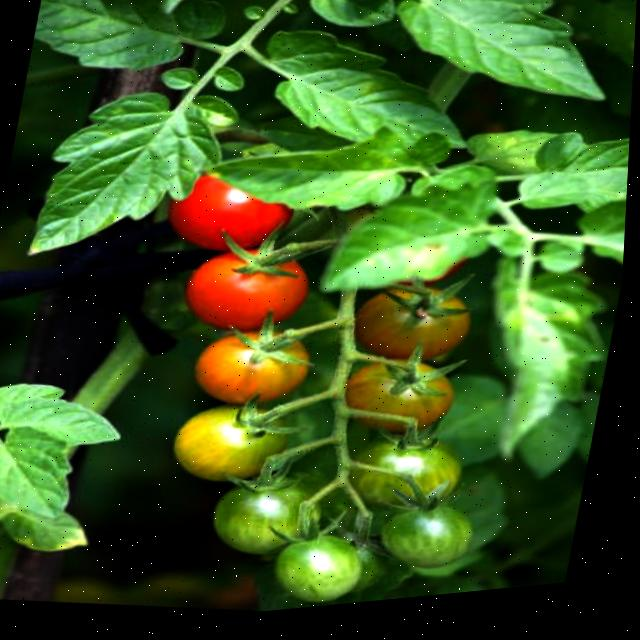ripe0: (166, 402, 294, 484), (206, 474, 318, 558), (268, 534, 368, 604), (376, 507, 479, 570)
ripe1: (339, 359, 461, 435), (353, 289, 477, 362)
ripe2: (182, 248, 315, 331), (162, 196, 299, 250)
